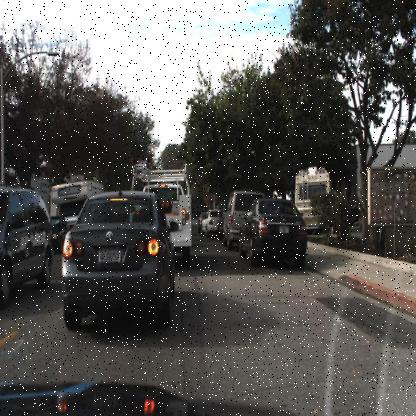car: (66, 190, 175, 328), (0, 181, 54, 308), (236, 195, 308, 270), (164, 162, 197, 270), (222, 188, 266, 252), (48, 170, 97, 220), (27, 211, 71, 258), (200, 207, 223, 240), (215, 199, 227, 245)
truck: (141, 180, 195, 260), (0, 166, 49, 243), (291, 162, 336, 242), (50, 175, 104, 239)
